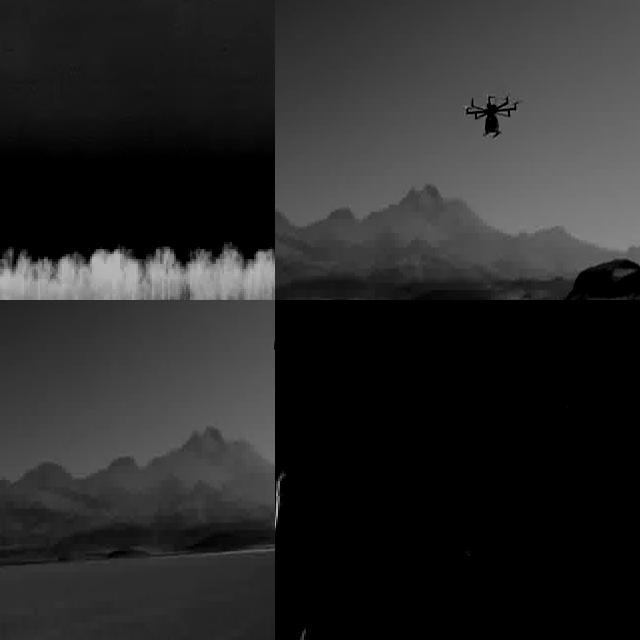0: (457, 542, 481, 570)
drone: (467, 85, 522, 143)
